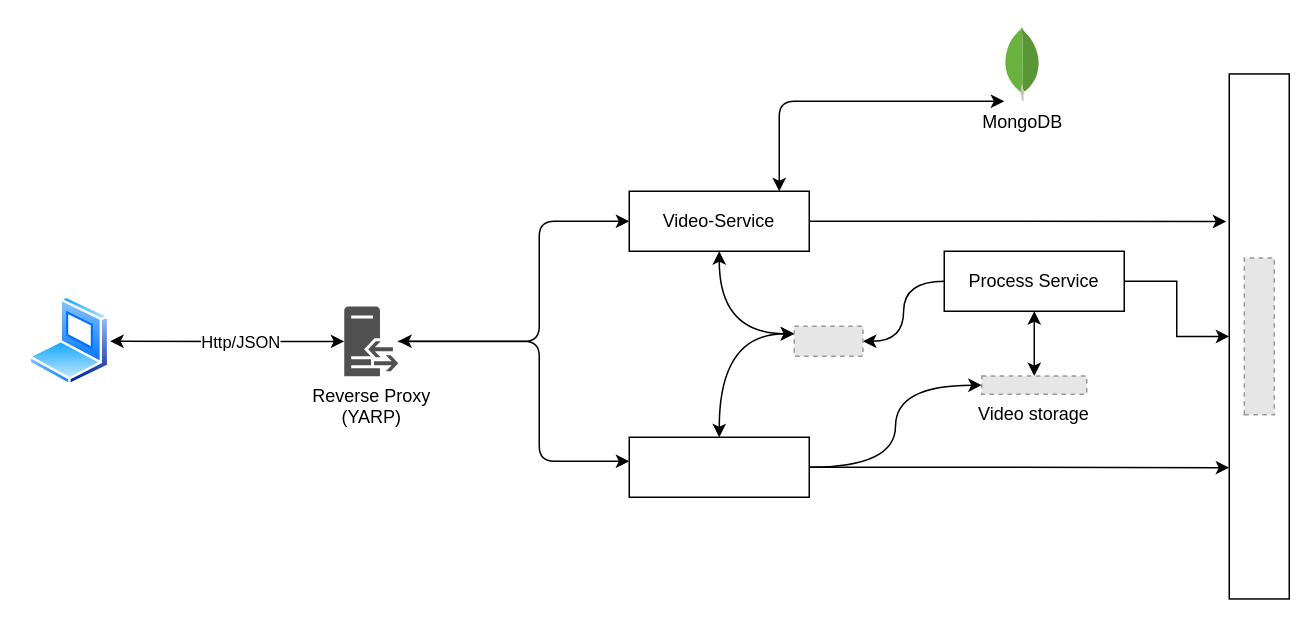
The diagram is 1316 pixels wide and 626 high, and some of its shapes have lost their labels. Grey dashed boxes stand in for pictures. The shapes that lost their labels are listed below. From the top down, each one's centre as x and y in pixels, then its label:
At [69,341]: "Web Client".
At [718,466]: "Storage Service".
